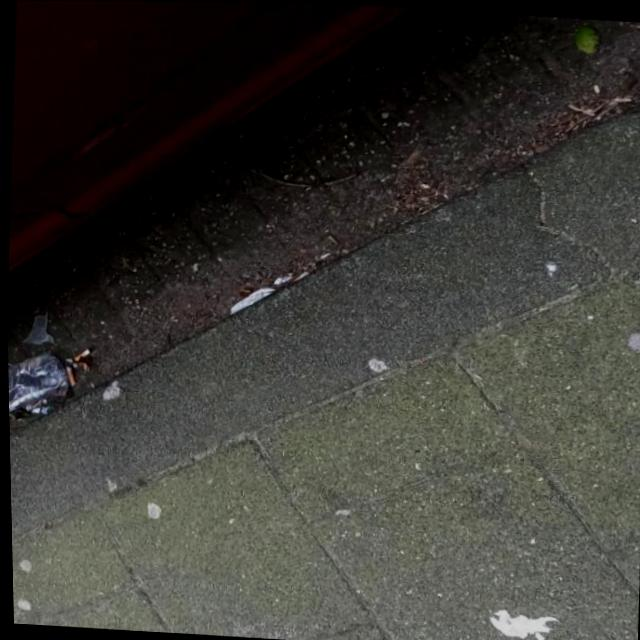Paper: (483, 606, 559, 640), (224, 280, 279, 317)
